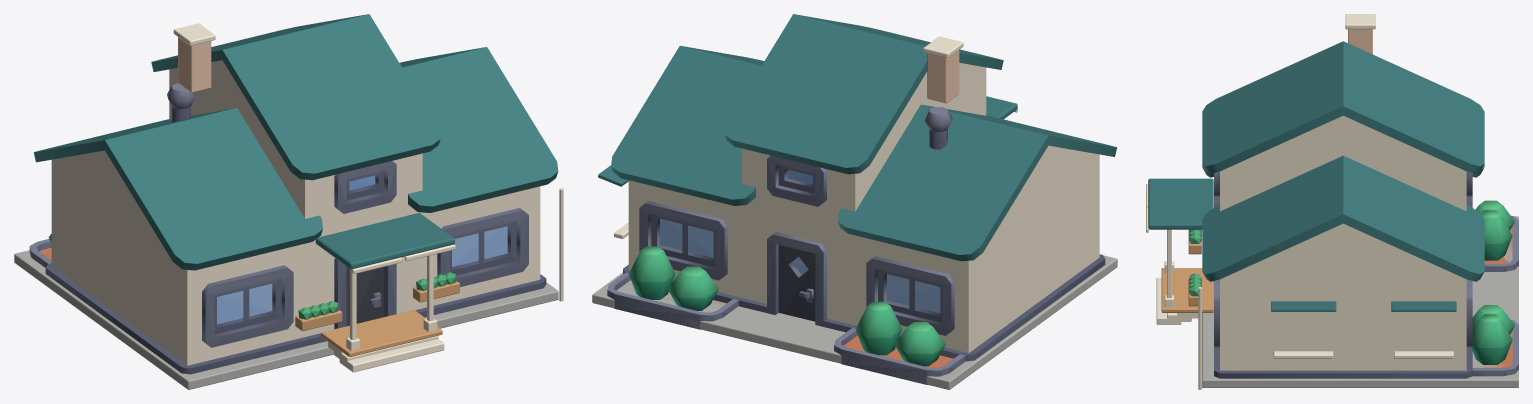
Rendered from house_willow.glb.
3 renders of one model, left to right at view 1: azimuth 30°, elevation 25°; view 2: azimuth 150°, elevation 25°; view 3: azimuth 270°, elevation 25°, orthographic. The views are drawn at different scales.
Visible parts, largest first — view 1: house_willow_Mesh; view 2: house_willow_Mesh; view 3: house_willow_Mesh.
Boxes of the visible parts, <box> form: house_willow_Mesh: <box>14,14,563,389</box>; house_willow_Mesh: <box>592,14,1117,389</box>; house_willow_Mesh: <box>1146,14,1518,389</box>.
Size of the model in its own units: 11.02 by 7.06 by 9.69.
